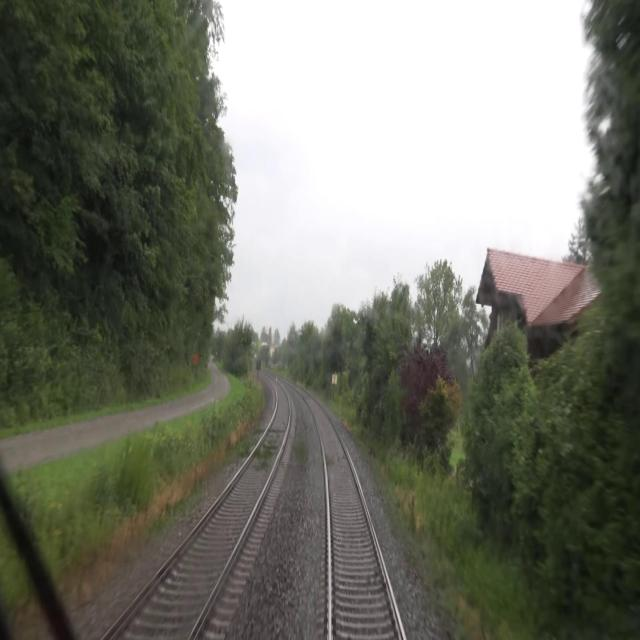rail-track: (107, 385, 287, 639), (307, 397, 401, 639)
